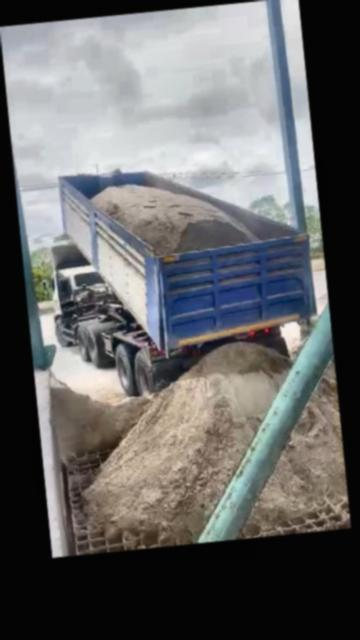sand: (86, 342, 290, 545), (247, 380, 348, 534), (92, 185, 257, 254), (52, 381, 148, 462), (289, 338, 307, 359)
